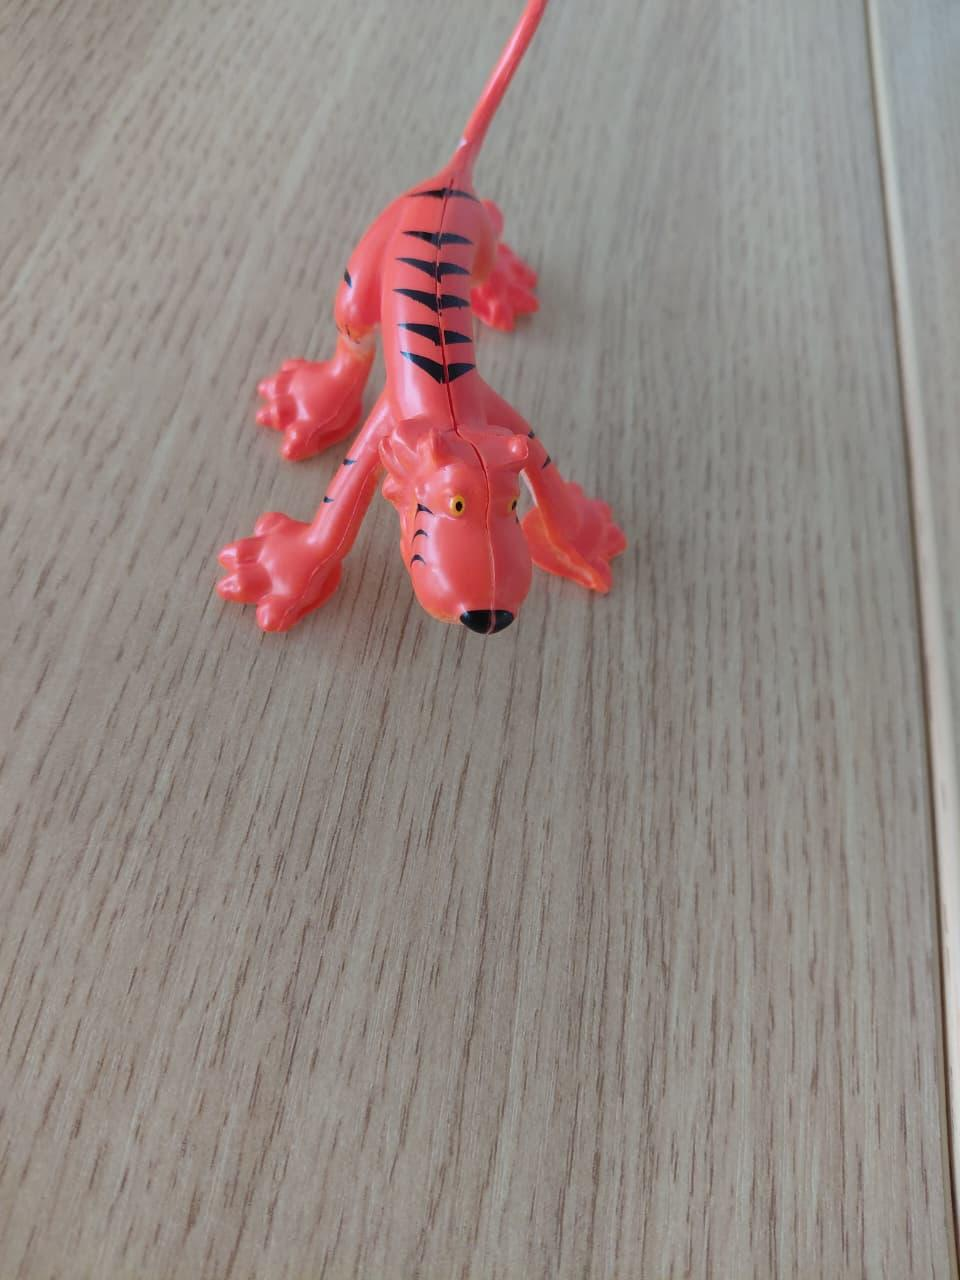tiger: (135, 20, 810, 691)
